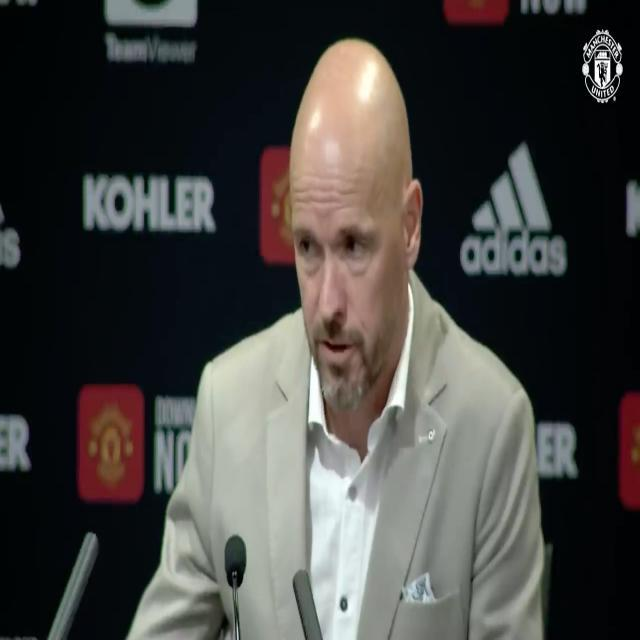Adidas: (460, 141, 568, 274)
Kohler: (84, 175, 215, 234)
TeamViewer: (105, 0, 196, 62)
